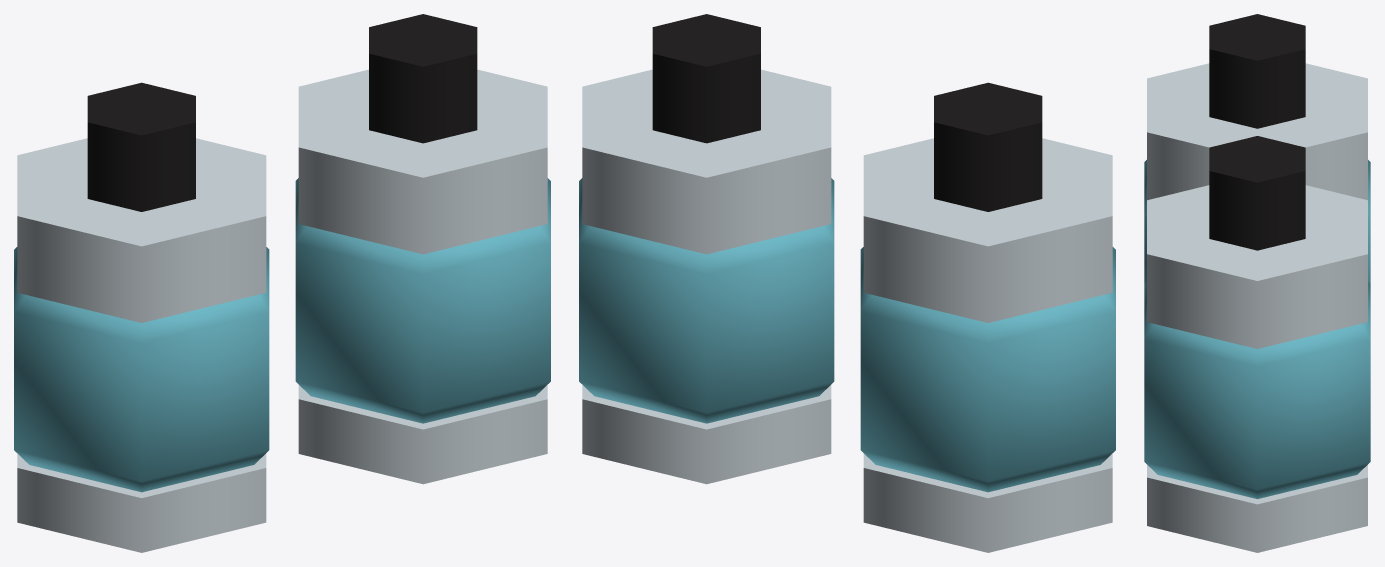
File: item_rm_neutroamine_b.obj
3 renders of one model, left to right at view 1: azimuth 30°, elevation 25°; view 2: azimuth 150°, elevation 25°; view 3: azimuth 270°, elevation 25°, orthographic. The views are drawn at different scales.
Parts seen in each view (by area): view 1: bottle_body_140, bottle_body_120, part_100_rawmat_bottle, part_060_rawmat_bottle, part_040_rawmat_bottle, part_080_rawmat_bottle, part_020_an_dark, part_000_an_dark; view 2: bottle_body_140, bottle_body_120, part_100_rawmat_bottle, part_060_rawmat_bottle, part_040_rawmat_bottle, part_080_rawmat_bottle, part_020_an_dark, part_000_an_dark; view 3: bottle_body_140, part_100_rawmat_bottle, part_060_rawmat_bottle, part_080_rawmat_bottle, part_000_an_dark, part_020_an_dark, bottle_body_120.
Part boxes in pixels (<box>): bottle_body_140: <box>295,178,550,423</box>; bottle_body_120: <box>14,247,269,492</box>; part_100_rawmat_bottle: <box>298,69,547,254</box>; part_060_rawmat_bottle: <box>17,138,266,322</box>; part_040_rawmat_bottle: <box>17,453,266,552</box>; part_080_rawmat_bottle: <box>298,385,547,484</box>; part_020_an_dark: <box>369,14,477,143</box>; part_000_an_dark: <box>87,82,195,211</box>; bottle_body_140: <box>579,178,834,423</box>; bottle_body_120: <box>860,247,1115,492</box>; part_100_rawmat_bottle: <box>582,69,831,254</box>; part_060_rawmat_bottle: <box>863,138,1112,322</box>; part_040_rawmat_bottle: <box>863,453,1112,552</box>; part_080_rawmat_bottle: <box>582,385,831,484</box>; part_020_an_dark: <box>652,14,760,143</box>; part_000_an_dark: <box>934,82,1042,211</box>; bottle_body_140: <box>1144,281,1370,498</box>; part_100_rawmat_bottle: <box>1147,185,1367,348</box>; part_060_rawmat_bottle: <box>1147,63,1367,200</box>; part_080_rawmat_bottle: <box>1147,465,1367,552</box>; part_000_an_dark: <box>1209,14,1305,128</box>; part_020_an_dark: <box>1209,136,1305,250</box>; bottle_body_120: <box>1144,160,1370,283</box>.
Size of the model in its own units: 0.734 by 0.5005 by 0.3024.
